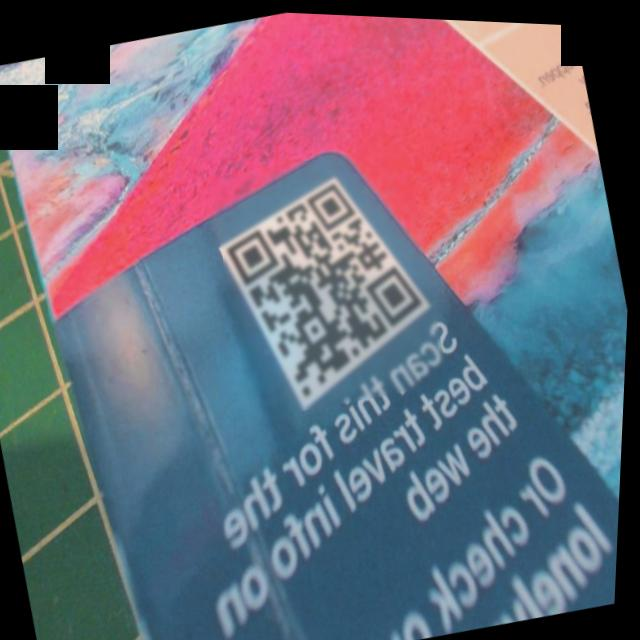QR_CODE: (201, 131, 460, 424)
